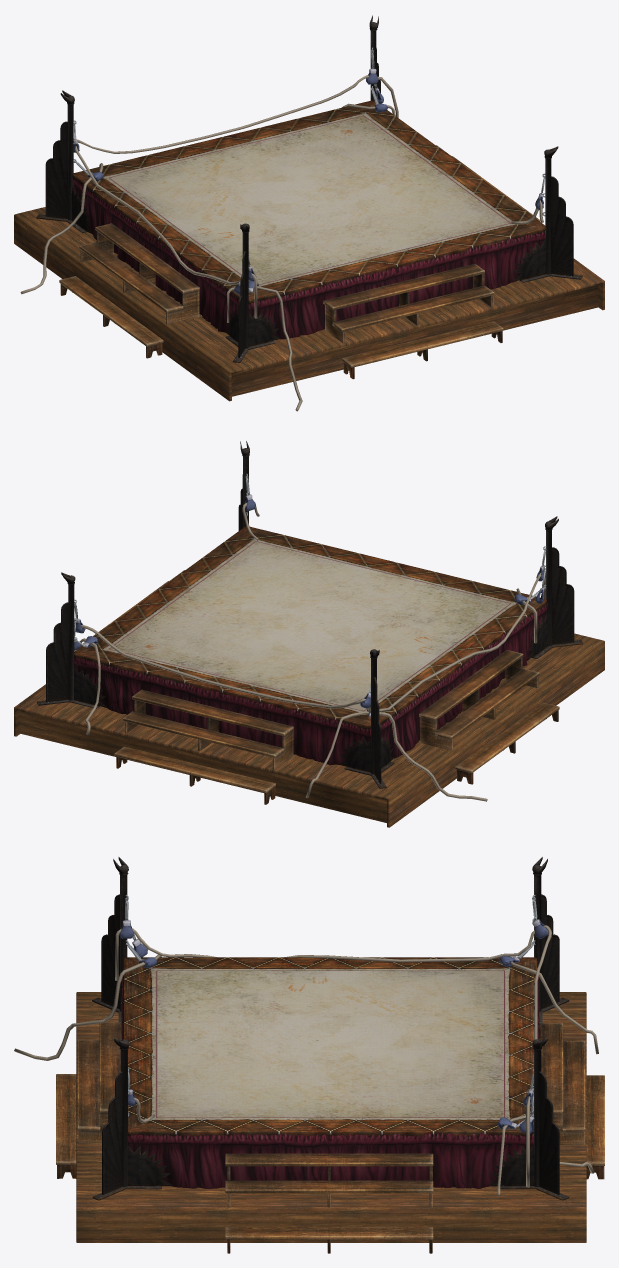
Rendered from Ring.obj.
3 renders of one model, top to bottom at view 1: azimuth 30°, elevation 25°; view 2: azimuth 150°, elevation 25°; view 3: azimuth 270°, elevation 25°, orthographic. The views are drawn at different scales.
Visible parts, largest first — view 1: BoxingRing; view 2: BoxingRing; view 3: BoxingRing.
Boxes of the visible parts, <box> form: BoxingRing: <box>14,15,604,411</box>; BoxingRing: <box>14,441,604,827</box>; BoxingRing: <box>14,857,604,1253</box>.
Bounding box in the file's own units: 29.13 × 10.06 × 28.67.
